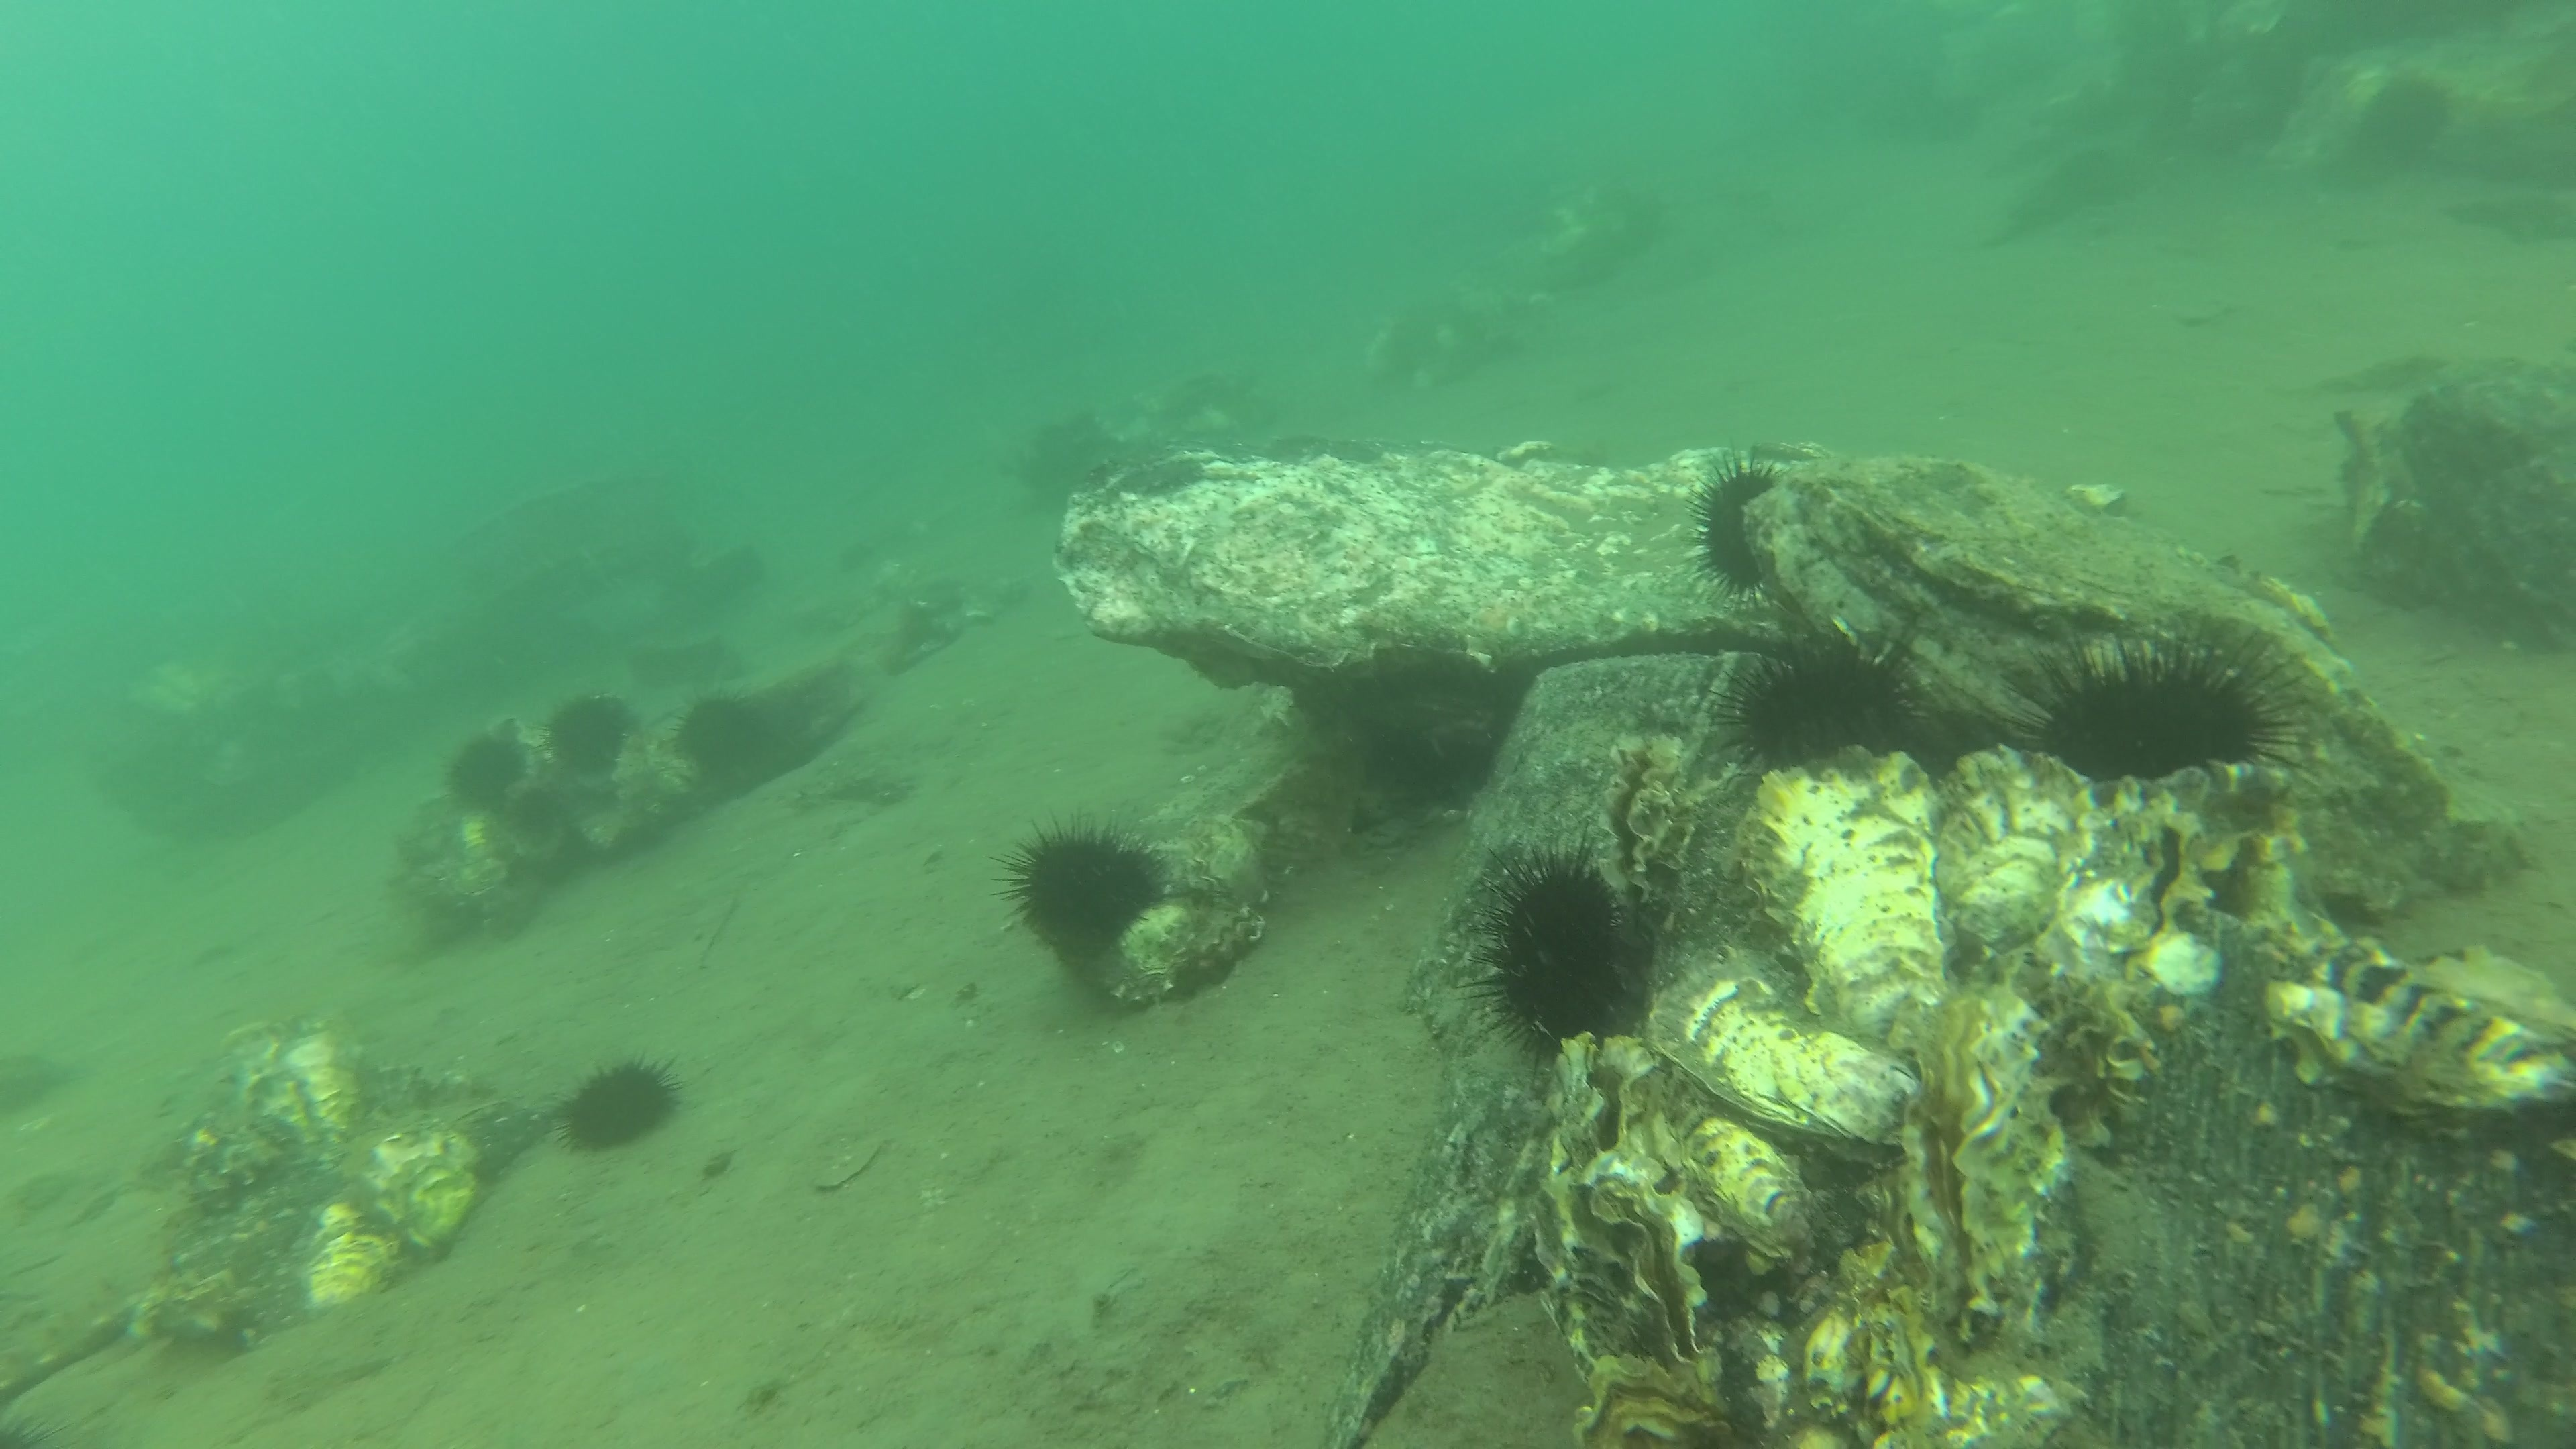echinus: (1999, 623, 2318, 784), (1454, 819, 1640, 1088), (1702, 621, 1943, 775), (989, 805, 1175, 957), (1679, 442, 1787, 610), (550, 1049, 688, 1157), (533, 692, 649, 780), (672, 686, 770, 778), (433, 731, 529, 812), (0, 1401, 78, 1449), (511, 786, 563, 839)
holothurian: (0, 1277, 136, 1401)
